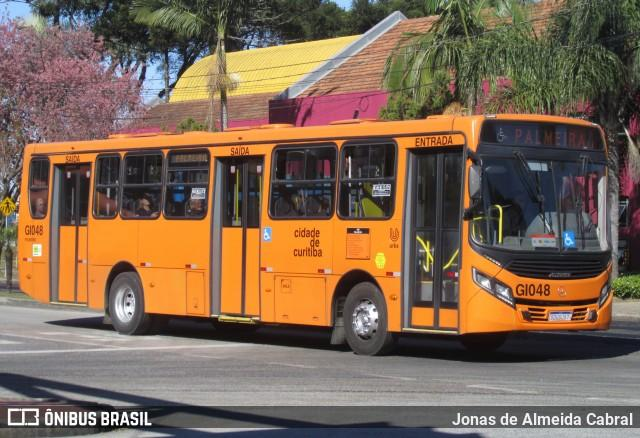PALMEIRA: (510, 125, 591, 152)
